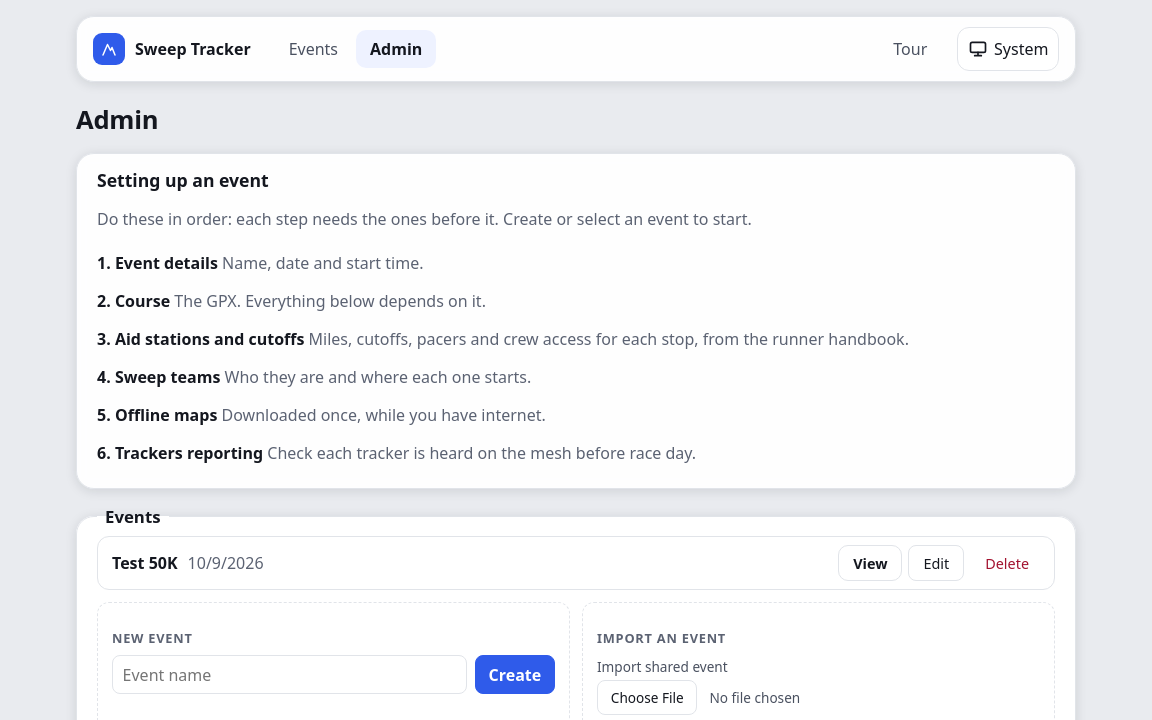
Test: AdminPage › aid stations › shows saved details, and cutoffs as hours when there is no start time
Click the button with aria-label "Edit Test 50K": (936, 563) [908,545,964,581]
(page scrolled)
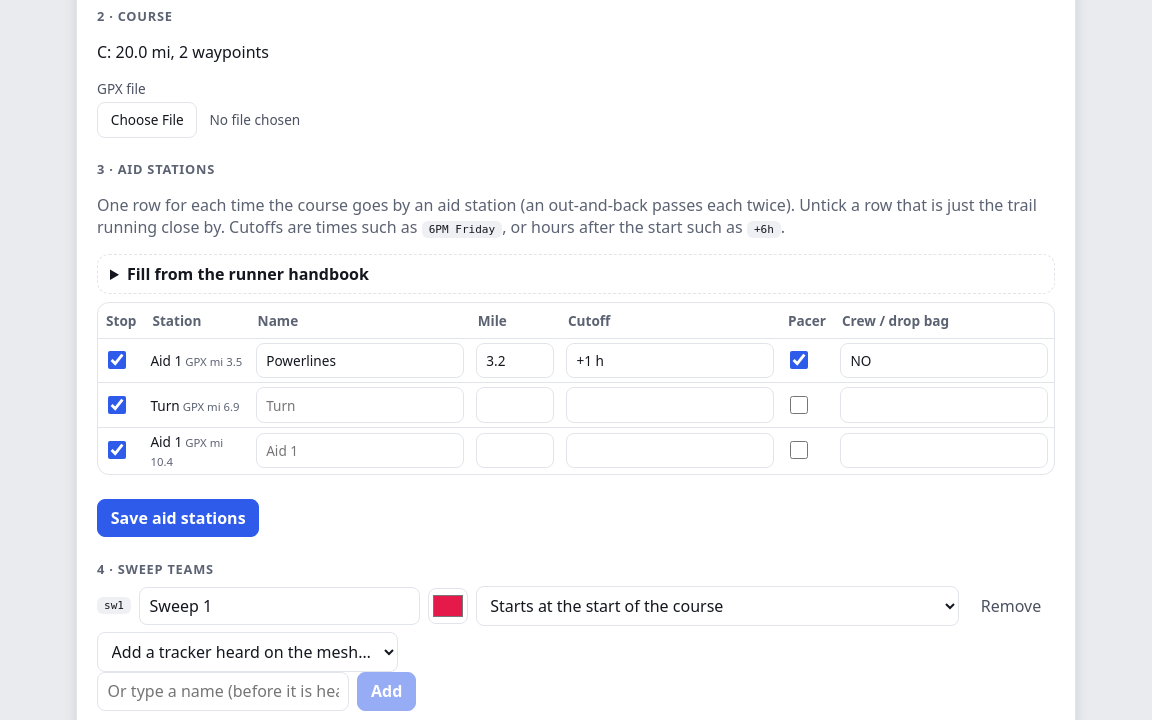
Now the field named "Name of stop 1" holds "Powerlines", box [256,343,464,378]
Now the field named "Mile of stop 1" holds "3.2", box [476,343,554,378]
Now the field named "Cutoff of stop 1" holds "+1 h", box [566,343,774,378]
